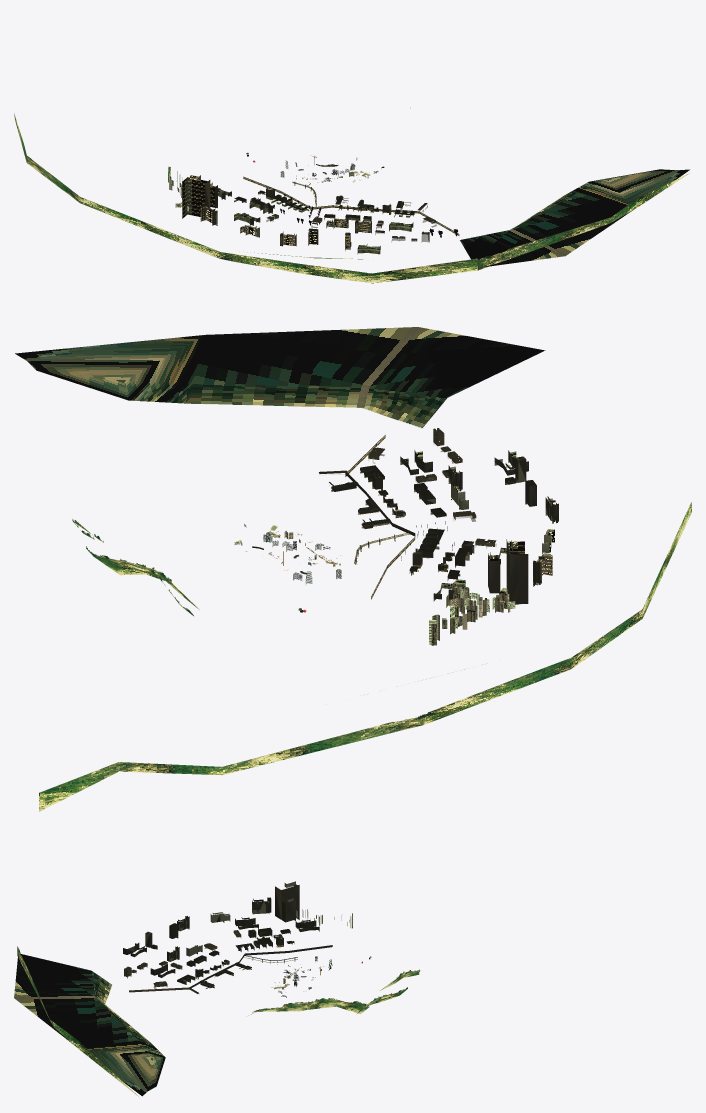
File: track-US_C1_V2_env.glb
3 renders of one model, top to bottom at view 1: azimuth 30°, elevation 25°; view 2: azimuth 150°, elevation 25°; view 3: azimuth 270°, elevation 25°, orthographic. The views are drawn at different scales.
Visible parts, largest first — view 1: US_C1_V2_env; view 2: US_C1_V2_env; view 3: US_C1_V2_env.
Part boxes in pixels (x1=…): US_C1_V2_env: x1=14, y1=108, x2=689, y2=283; US_C1_V2_env: x1=15, y1=327, x2=691, y2=811; US_C1_V2_env: x1=14, y1=881, x2=420, y2=1096.
Size of the model in its own units: 16970 by 1372 by 21369.
50 materials, 49 textured.
